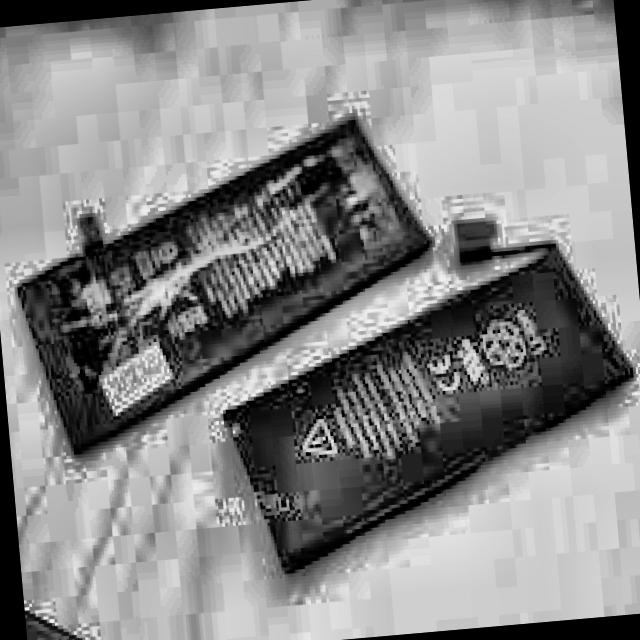Battery: (7, 107, 447, 454), (211, 240, 640, 581)
